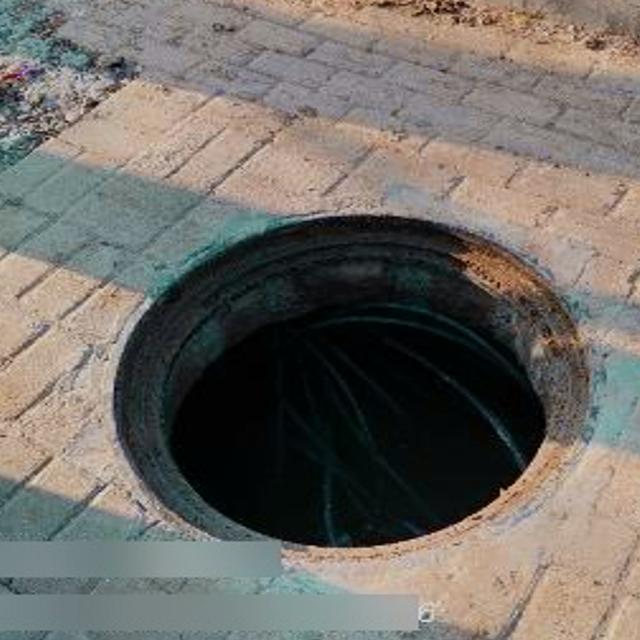lose: (111, 214, 596, 562)
